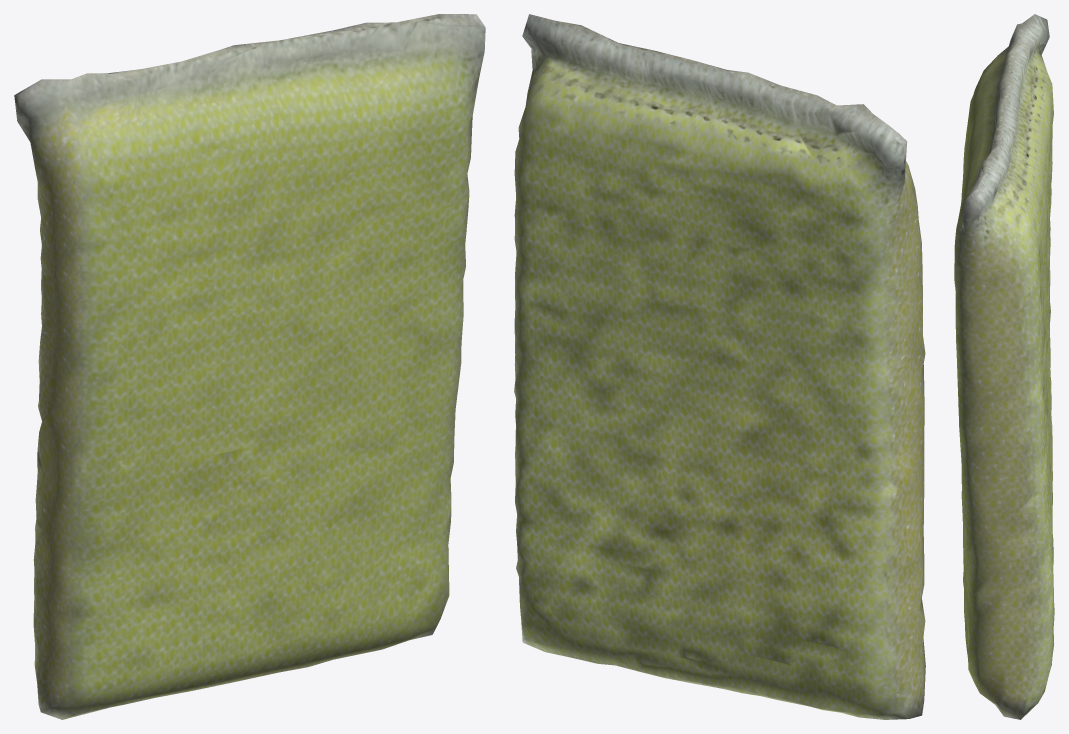
The model's file is 026_sponge.glb.
3 renders of one model, left to right at view 1: azimuth 30°, elevation 25°; view 2: azimuth 150°, elevation 25°; view 3: azimuth 270°, elevation 25°, orthographic. The views are drawn at different scales.
Visible parts, largest first — view 1: textured.037; view 2: textured.037; view 3: textured.037.
Part boxes in pixels (x1,y1,x2,y2): textured.037: [14, 14, 485, 719]; textured.037: [514, 14, 925, 719]; textured.037: [954, 14, 1054, 719].
Bounding box in the file's own units: 0.0788 × 0.1122 × 0.0186.
1 material, 1 textured.
